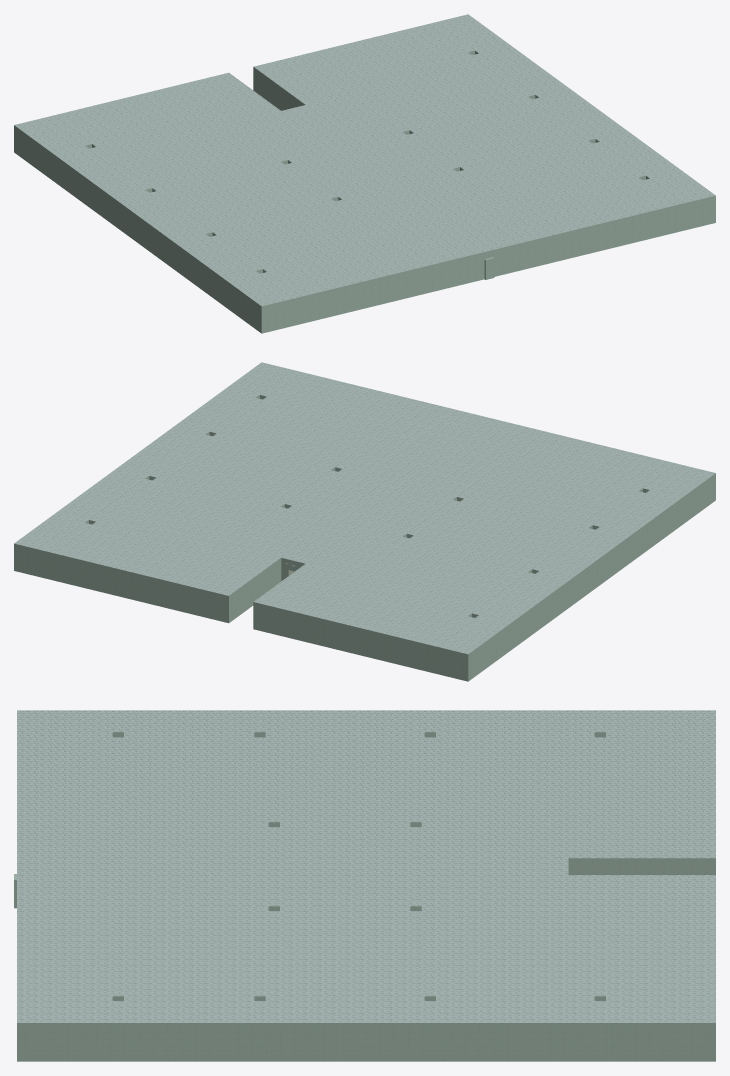
Rendered from gbi_B1_4.glb.
3 renders of one model, top to bottom at view 1: azimuth 30°, elevation 25°; view 2: azimuth 150°, elevation 25°; view 3: azimuth 270°, elevation 25°, orthographic. The views are drawn at different scales.
Parts seen in each view (by area): view 1: M_D_ceil_B1, M_D_wall_B1, M_GBI_kit; view 2: M_D_ceil_B1, M_D_wall_B1, M_GBI_kit; view 3: M_D_ceil_B1, M_D_wall_B1, M_GBI_kit.
Part boxes in pixels (x1=…): M_D_ceil_B1: x1=14, y1=14, x2=715, y2=306; M_D_wall_B1: x1=14, y1=50, x2=715, y2=333; M_GBI_kit: x1=253, y1=67, x2=304, y2=110; M_D_ceil_B1: x1=14, y1=362, x2=715, y2=654; M_D_wall_B1: x1=14, y1=395, x2=715, y2=681; M_GBI_kit: x1=229, y1=558, x2=304, y2=622; M_D_ceil_B1: x1=17, y1=710, x2=715, y2=1022; M_D_wall_B1: x1=14, y1=732, x2=715, y2=1061; M_GBI_kit: x1=568, y1=858, x2=715, y2=874.
Size of the model in its own units: 52.2 by 3 by 49.5.
Materials: 17 (7 with a texture image).
